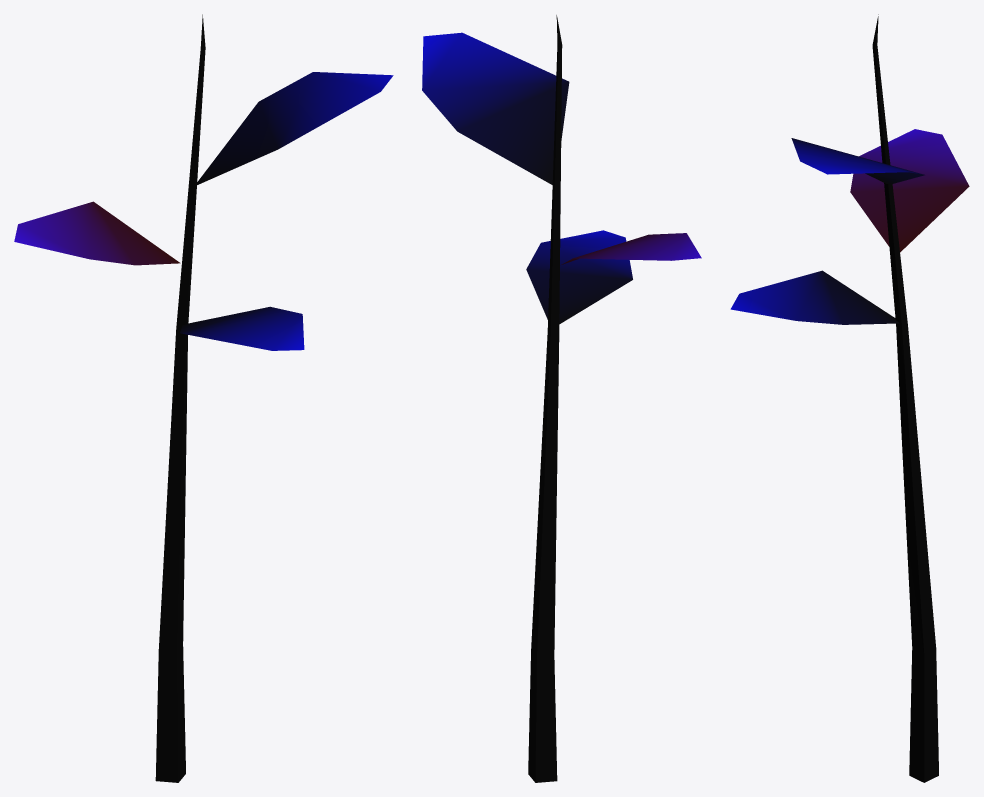
The model's file is VertexBlueMask.fbx.
3 views of the same model, side by side, from view 1: azimuth 30°, elevation 25°; view 2: azimuth 150°, elevation 25°; view 3: azimuth 270°, elevation 25° (orthographic). The views are drawn at different scales.
Parts seen in each view (by area): view 1: VertexBlueMask; view 2: VertexBlueMask; view 3: VertexBlueMask.
Boxes of the visible parts, box(x1,y1,x2,y2) form: VertexBlueMask: box(14, 14, 393, 782); VertexBlueMask: box(422, 15, 701, 782); VertexBlueMask: box(730, 14, 969, 782).
Size of the model in its own units: 79372 by 176122 by 49849.
